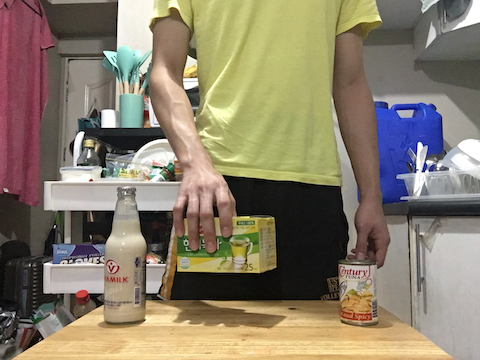bottle: (100, 185, 156, 328)
box: (171, 207, 283, 279)
can: (335, 255, 382, 328)
grab: (169, 176, 242, 255)
